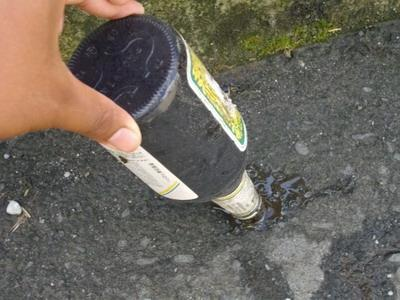bottle: (60, 15, 270, 232)
